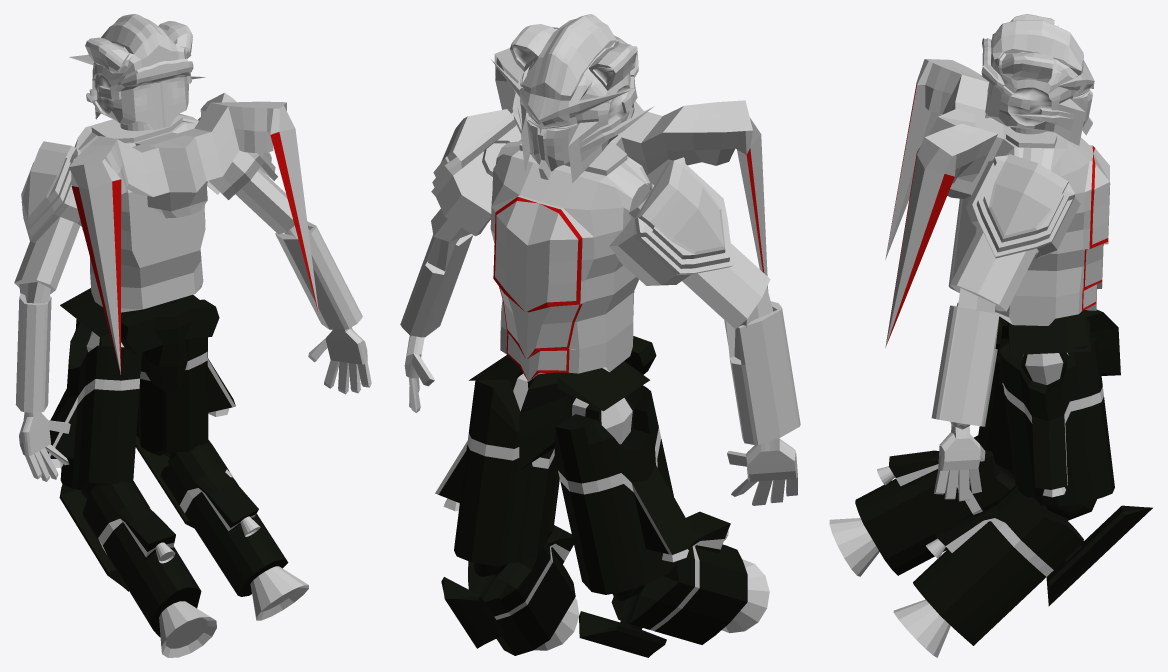
Rendered from walk6.obj.
3 renders of one model, left to right at view 1: azimuth 30°, elevation 25°; view 2: azimuth 150°, elevation 25°; view 3: azimuth 270°, elevation 25°, orthographic. The views are drawn at different scales.
Parts seen in each view (by area): view 1: Bottom_Half_Cube.008; view 2: Bottom_Half_Cube.008; view 3: Bottom_Half_Cube.008.
Boxes of the visible parts, x1,y1,x2,y2 form: Bottom_Half_Cube.008: (14,14,371,657); Bottom_Half_Cube.008: (400,14,800,657); Bottom_Half_Cube.008: (829,14,1152,657).
Bounding box in the file's own units: 1.11 × 1.83 × 0.9075.
